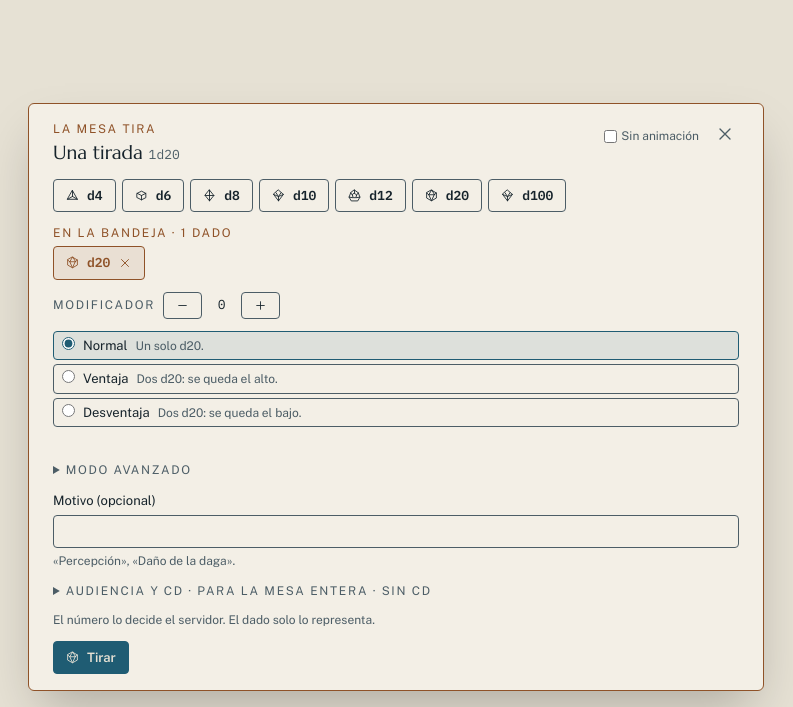
PanelDeDadosDeLaMesa — el radio de ventaja no se desmonta al escribir (anexo #8) › escribir una expresión inválida deja montados el radiogroup y el botón Tirar
Expected: the element named "cómo tirar" is shown, [53,330,739,427]
Expected: the radio button labelled "Normal" is enabled, [62,336,75,350]
Click the heading "Modo avanzado". click: (129, 470)
box: [66,463,192,477]
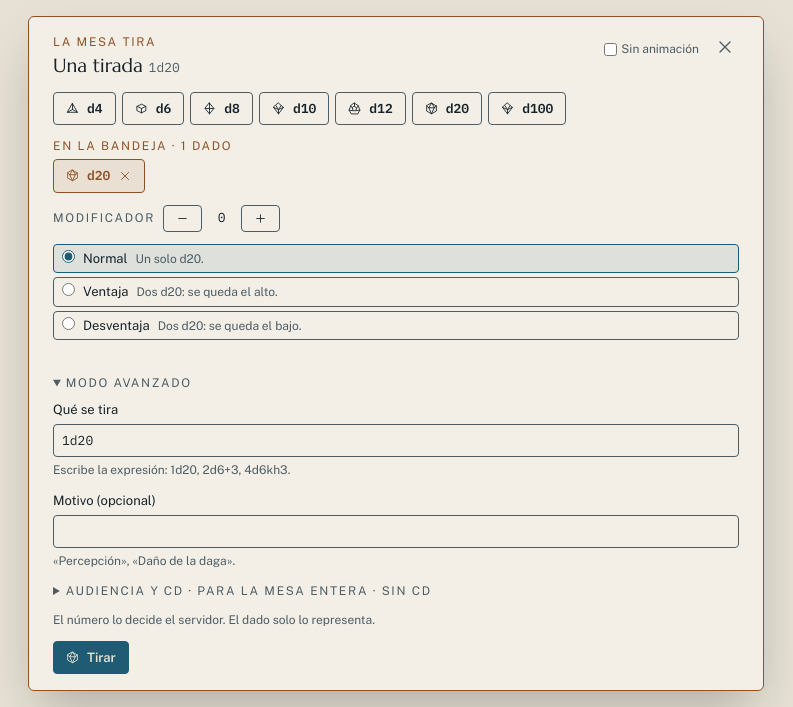
Replace the text in the field labelled "Qué se tira" with "4d". click: (396, 440)
box: [53,424,739,457]
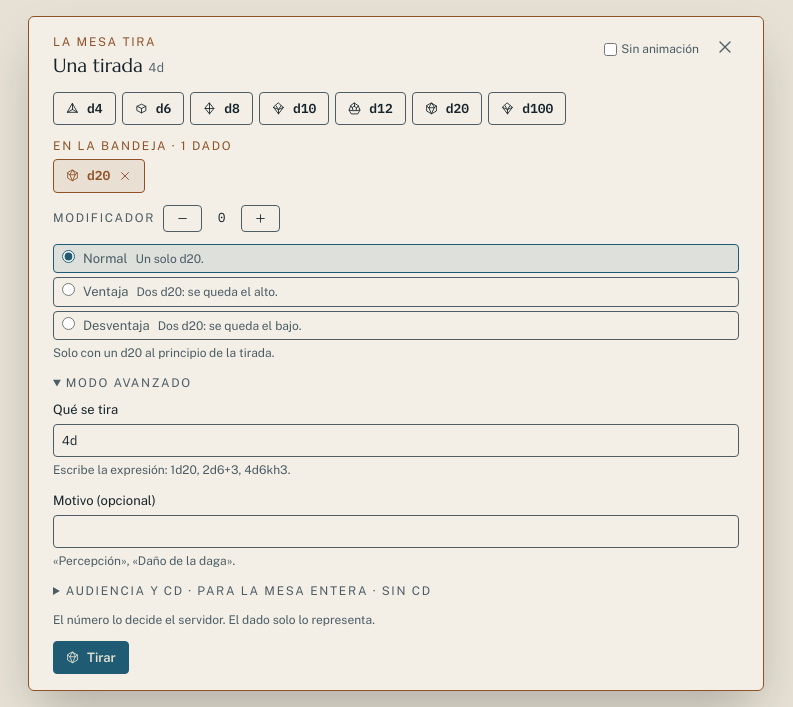
Expected: the element named "cómo tirar" is shown, [53,244,739,340]
Expected: the text "Solo con un d20 al principio de la tirada." is shown, [53,346,274,360]
